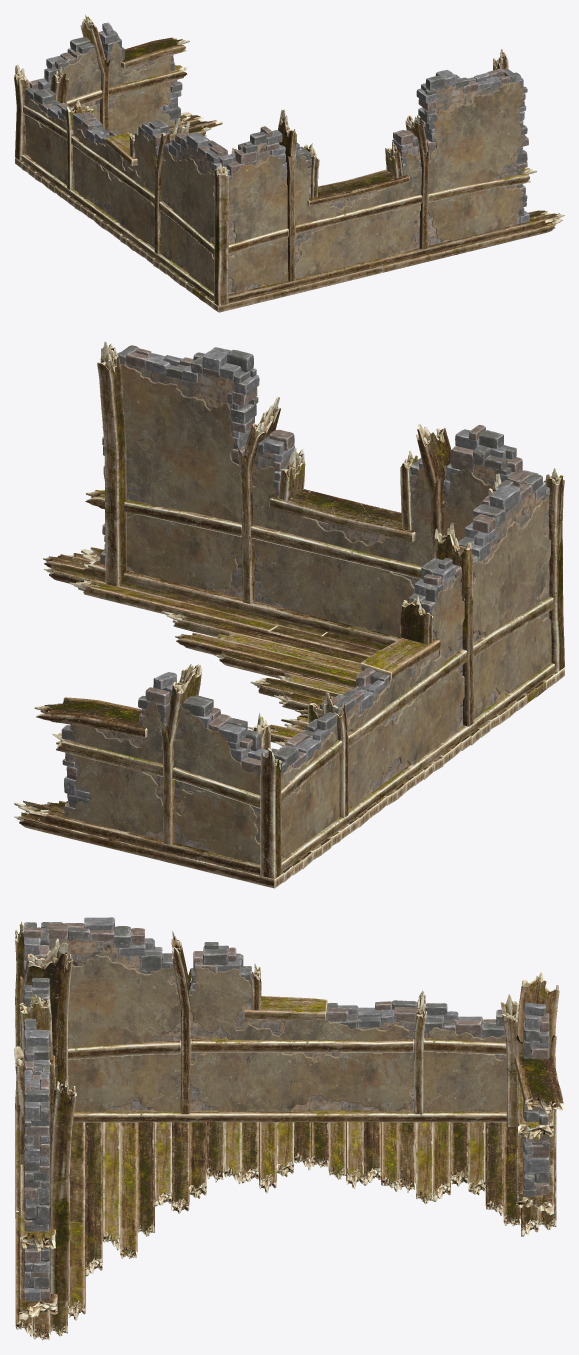
The picture shows the model from 3 angles, top to bottom: view 1: azimuth 30°, elevation 25°; view 2: azimuth 150°, elevation 25°; view 3: azimuth 270°, elevation 25°; orthographic projection. The views are drawn at different scales.
Parts seen in each view (by area): view 1: SM_House_03_Dmg_LOD0; view 2: SM_House_03_Dmg_LOD0; view 3: SM_House_03_Dmg_LOD0.
Part boxes in pixels (x1,y1,x2,y2): SM_House_03_Dmg_LOD0: (14,14,564,312); SM_House_03_Dmg_LOD0: (14,341,564,888); SM_House_03_Dmg_LOD0: (14,917,564,1340).
Bounding box in the file's own units: 7.83 × 3.71 × 7.87.
4 materials, 4 textured.
